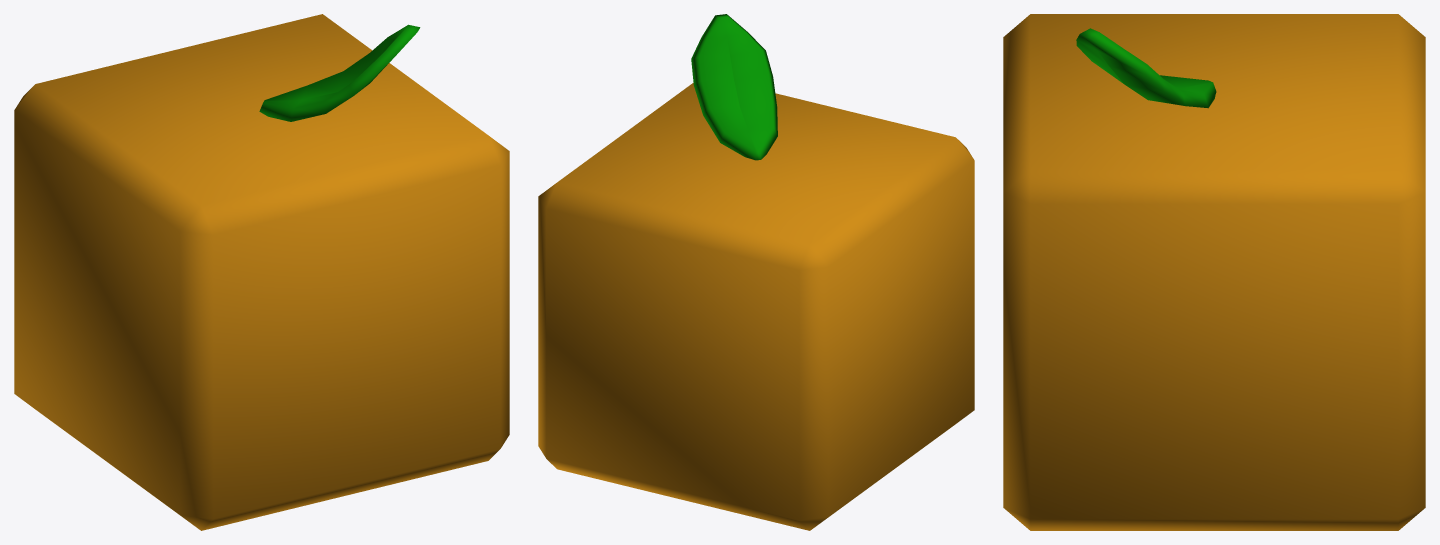
The model's file is cake_orange_1.fbx.
3 views of the same model, side by side, from view 1: azimuth 30°, elevation 25°; view 2: azimuth 150°, elevation 25°; view 3: azimuth 270°, elevation 25° (orthographic). The views are drawn at different scales.
Parts seen in each view (by area): view 1: 立方体.028; view 2: 立方体.028; view 3: 立方体.028.
Part boxes in pixels (bbox=[...]): 立方体.028: bbox=[14, 14, 509, 530]; 立方体.028: bbox=[538, 14, 974, 530]; 立方体.028: bbox=[1003, 14, 1425, 530].
Size of the model in its own units: 14.6 by 18.02 by 14.6.
